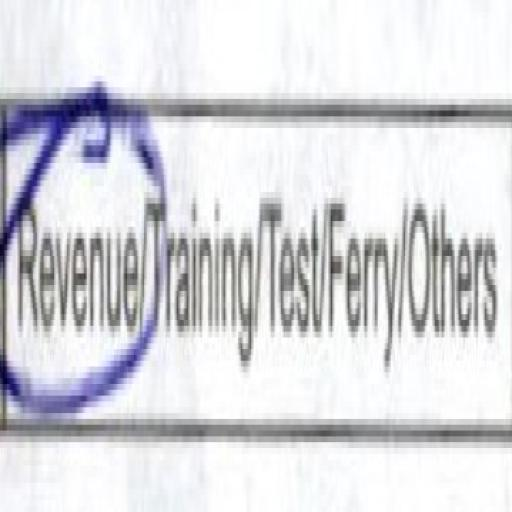check: (1, 32, 146, 468)
